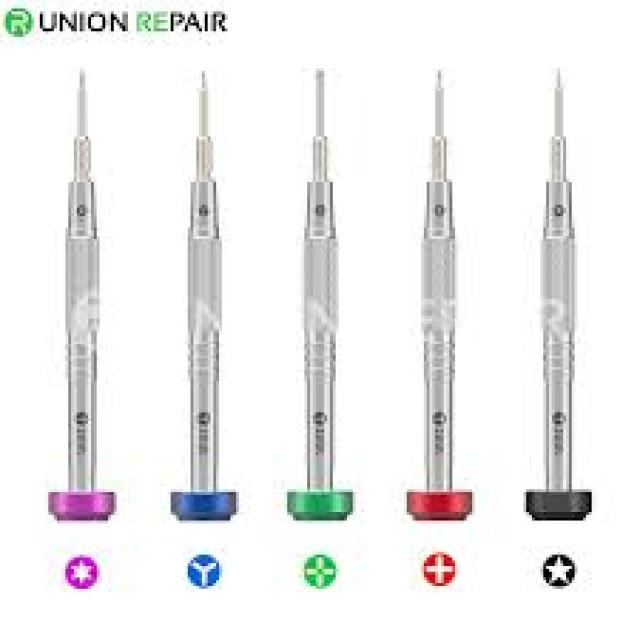screw driver: (270, 37, 382, 542)
